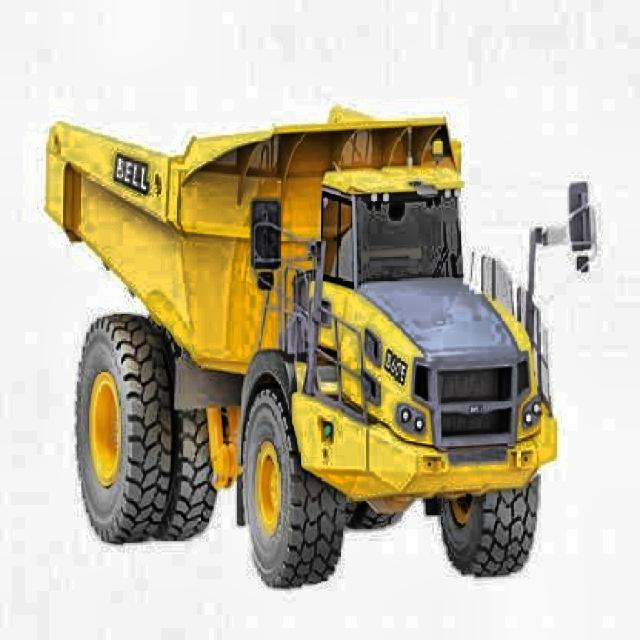dump_truck: (43, 95, 571, 586)
